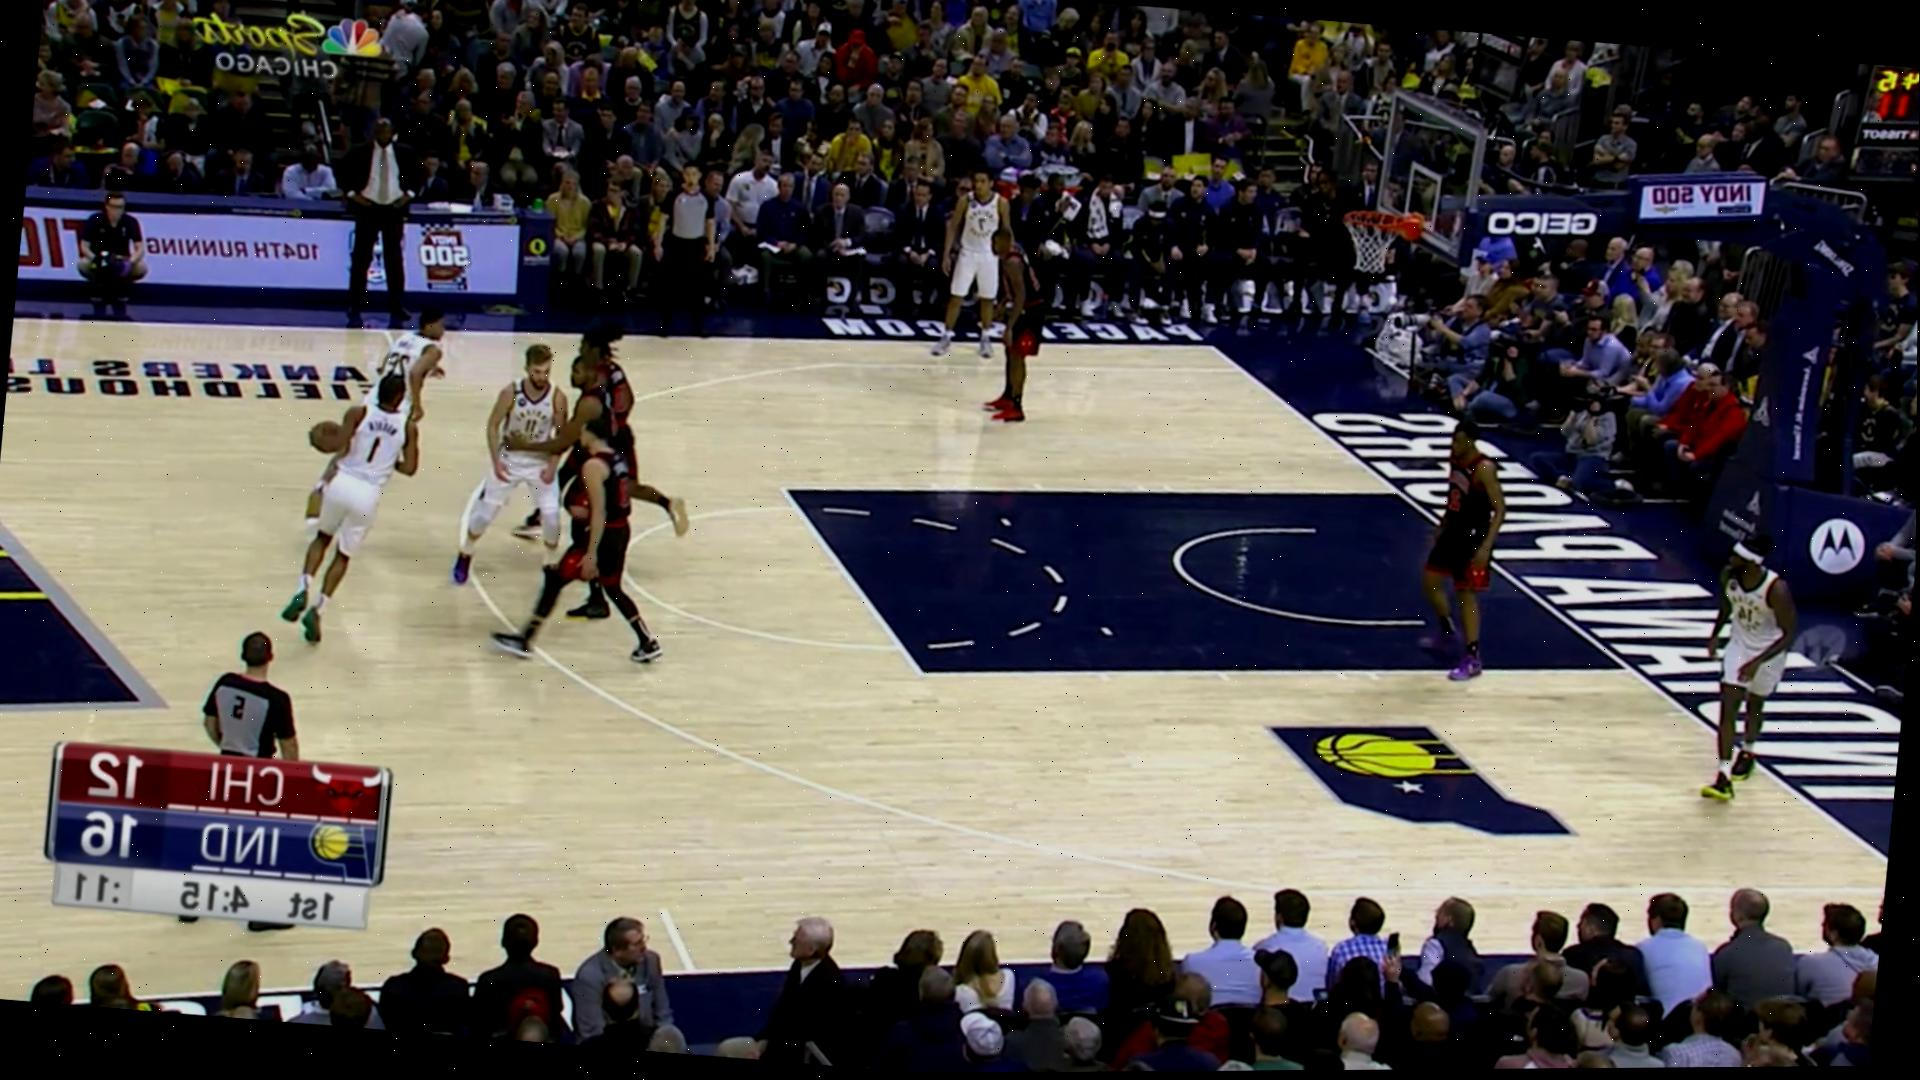no_foul: (468, 310, 628, 591)
